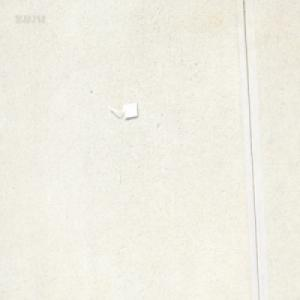LuggageTag: (107, 101, 139, 119)
